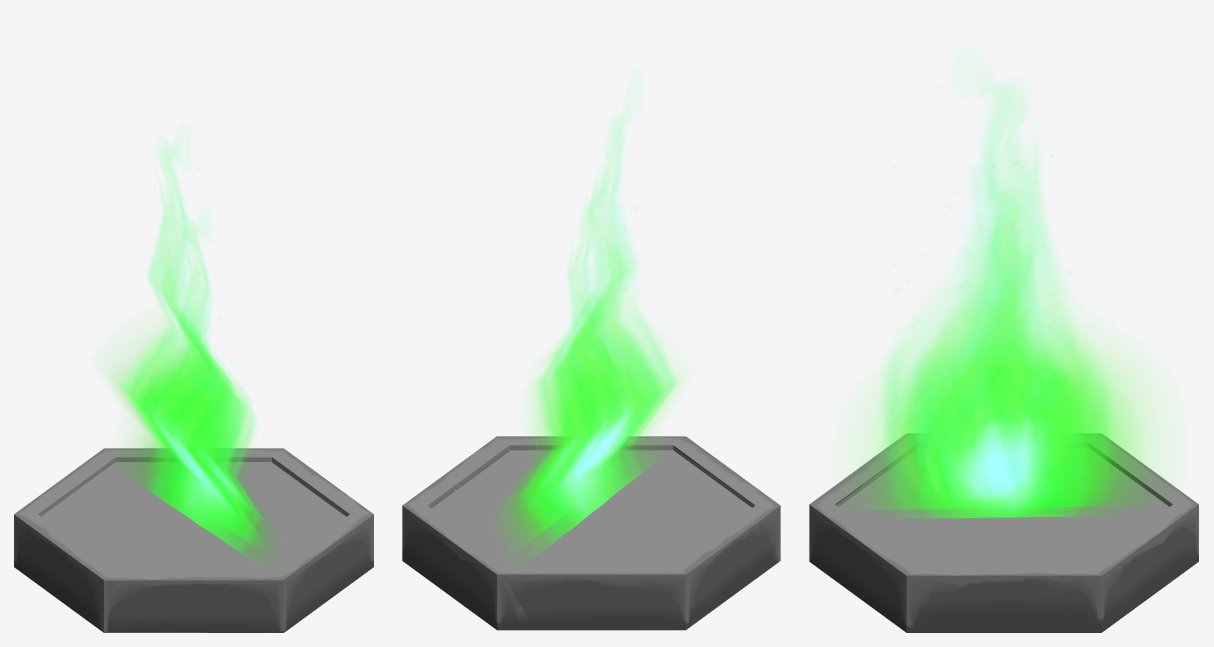
File: flame_test_2.glb
3 views of the same model, side by side, from view 1: azimuth 30°, elevation 25°; view 2: azimuth 150°, elevation 25°; view 3: azimuth 270°, elevation 25° (orthographic). The views are drawn at different scales.
Parts seen in each view (by area): view 1: Cylinder, fire__png__by_ivaxxx-d86iymh green, fire__png__by_ivaxxx-d86iymh green.001; view 2: Cylinder, fire__png__by_ivaxxx-d86iymh green, fire__png__by_ivaxxx-d86iymh green.001; view 3: Cylinder, fire__png__by_ivaxxx-d86iymh green, fire__png__by_ivaxxx-d86iymh green.001.
Boxes of the visible parts, box(x1,y1,x2,y2) form: Cylinder: box(14, 448, 373, 632); fire__png__by_ivaxxx-d86iymh green: box(109, 144, 265, 563); fire__png__by_ivaxxx-d86iymh green.001: box(179, 223, 267, 545); Cylinder: box(402, 436, 780, 630); fire__png__by_ivaxxx-d86iymh green: box(512, 96, 677, 555); fire__png__by_ivaxxx-d86iymh green.001: box(509, 201, 600, 539); Cylinder: box(809, 433, 1198, 632); fire__png__by_ivaxxx-d86iymh green: box(869, 82, 1140, 509); fire__png__by_ivaxxx-d86iymh green.001: box(902, 190, 1109, 518).
Bounding box in the file's own units: 1.44 × 2.52 × 1.67.
2 materials, 2 textured.
